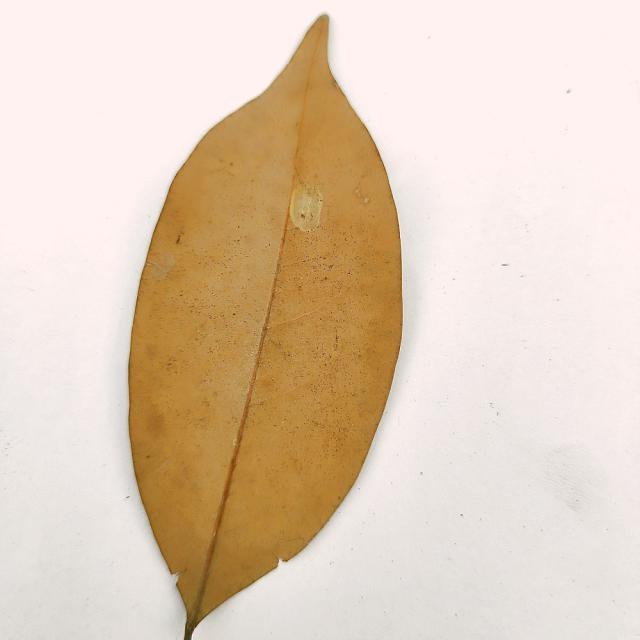Dry_Leaf-Lychee: (126, 13, 404, 639)
